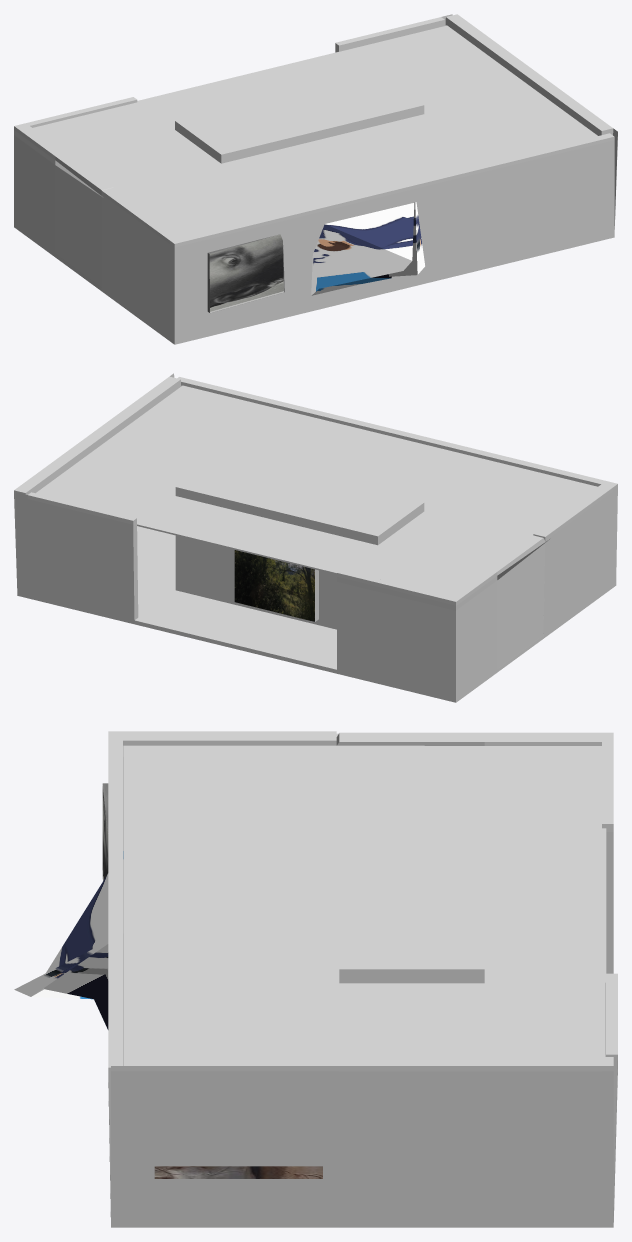
Rendered from lavoroautoritratto.glb.
3 views of the same model, one above another, from view 1: azimuth 30°, elevation 25°; view 2: azimuth 150°, elevation 25°; view 3: azimuth 270°, elevation 25° (orthographic). The views are drawn at different scales.
Visible parts, largest first — view 1: Cube, Cubo, Cubo.006, Cubo.004; view 2: Cube, Cubo, Cubo.009; view 3: Cubo, Cube, Cubo.006, Cubo.001.
Boxes of the visible parts, <box> form: Cube: <box>14,14,617,344</box>; Cubo: <box>33,25,597,237</box>; Cubo.006: <box>311,201,424,295</box>; Cubo.004: <box>207,234,284,313</box>; Cube: <box>14,373,617,702</box>; Cubo: <box>36,385,597,595</box>; Cubo.009: <box>234,550,318,621</box>; Cubo: <box>123,745,606,1065</box>; Cube: <box>108,731,617,1227</box>; Cubo.006: <box>14,851,123,1029</box>; Cubo.001: <box>154,1166,322,1178</box>.
Size of what is drawn, in the model's own units: 31.88 by 7.33 by 23.82.
Materials: 15 (12 with a texture image).
